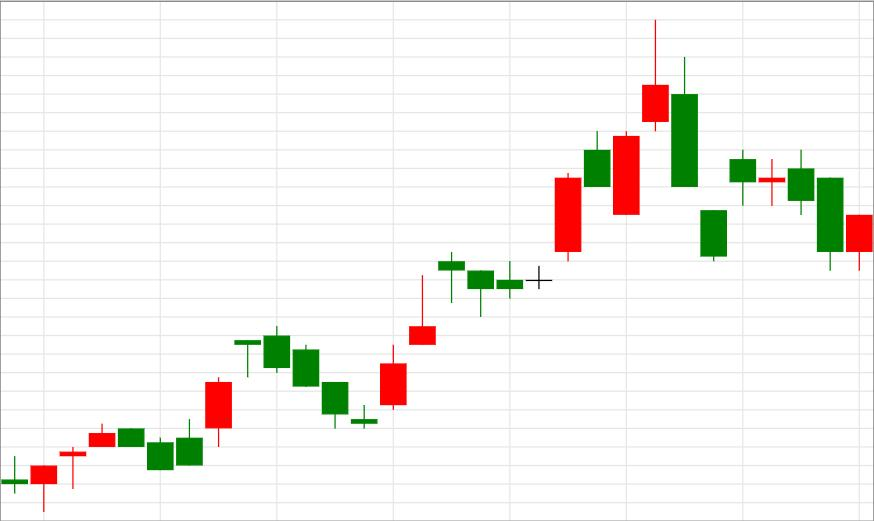shooting_star_fall: (496, 21, 668, 298)
